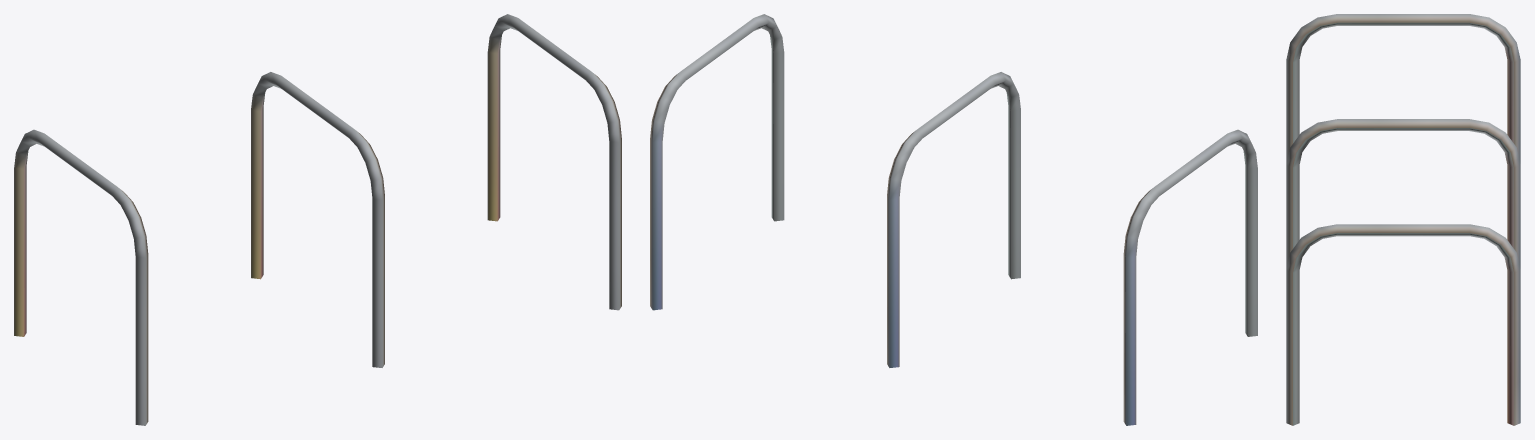
File: arceaux_velo_lod2.glb
The picture shows the model from 3 angles, left to right: view 1: azimuth 30°, elevation 25°; view 2: azimuth 150°, elevation 25°; view 3: azimuth 270°, elevation 25°; orthographic projection. The views are drawn at different scales.
Parts seen in each view (by area): view 1: arceaux_velo; view 2: arceaux_velo; view 3: arceaux_velo.
Boxes of the visible parts, x1=… form: arceaux_velo: x1=14, y1=14, x2=621, y2=425; arceaux_velo: x1=650, y1=14, x2=1257, y2=425; arceaux_velo: x1=1286, y1=14, x2=1520, y2=425.
Bounding box in the file's own units: 1.85 × 0.7939 × 0.8481.
Materials: 1 (1 with a texture image).
